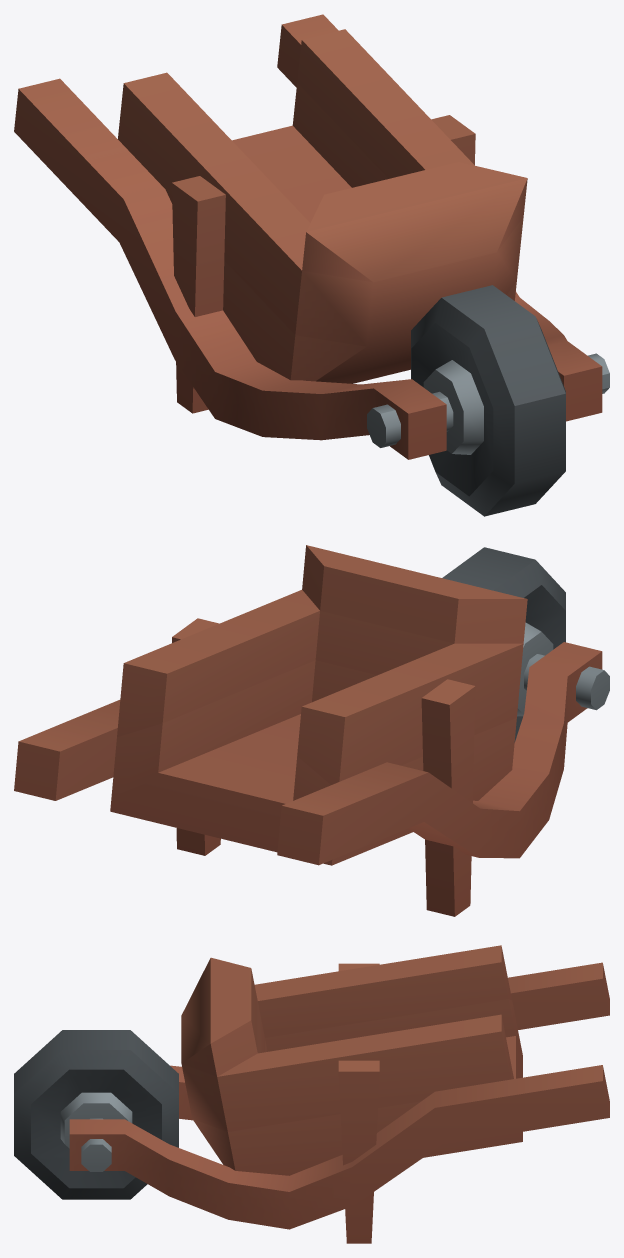
File: wheelbarrow-Byi-0dUB.glb
The picture shows the model from 3 angles, top to bottom: view 1: azimuth 30°, elevation 25°; view 2: azimuth 150°, elevation 25°; view 3: azimuth 270°, elevation 25°; orthographic projection. The views are drawn at different scales.
Parts seen in each view (by area): view 1: wheelbarrow; view 2: wheelbarrow; view 3: wheelbarrow.
Boxes of the visible parts, <box> form: wheelbarrow: <box>14,14,609,516</box>; wheelbarrow: <box>14,545,609,916</box>; wheelbarrow: <box>14,945,609,1243</box>.
Size of the model in its own units: 1.67 by 1.32 by 3.54.
Materials: 1 (1 with a texture image).
